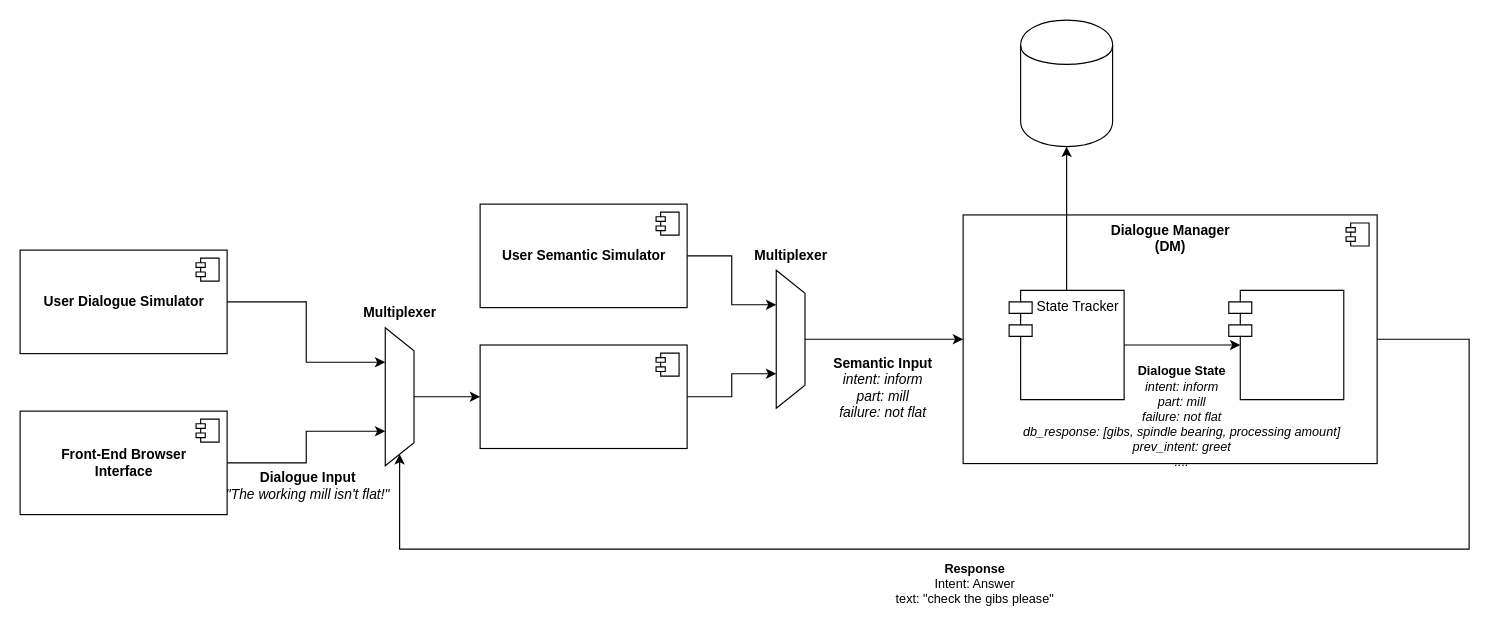
Some shapes in this 1498 by 627 pixel diagram are drawn without their labels. The centre of each missing label's shape, as x and y in pixels:
Agent: point 1286,344
Database: point 1066,83
Natural Language Understnading (NLU): point 583,396
